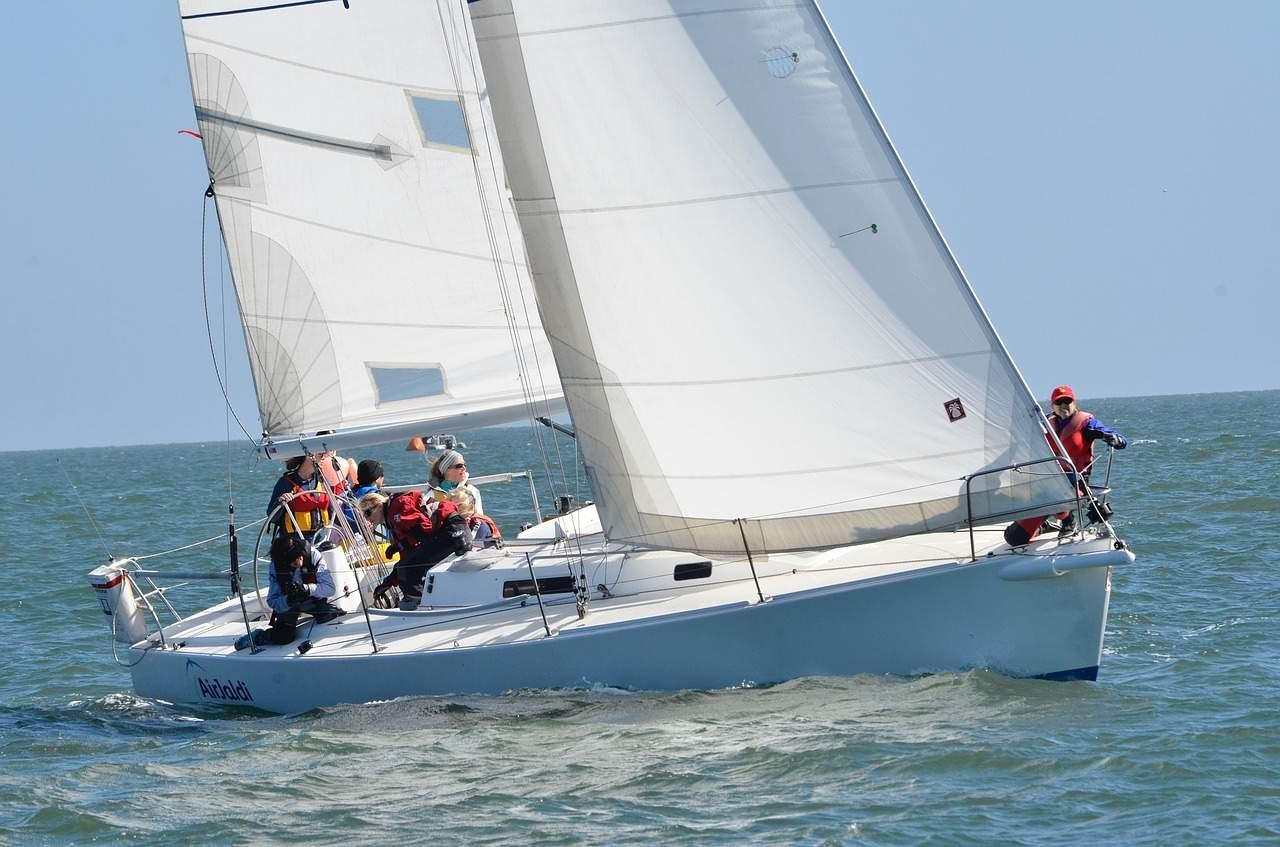Ship: (90, 1, 1138, 715)
